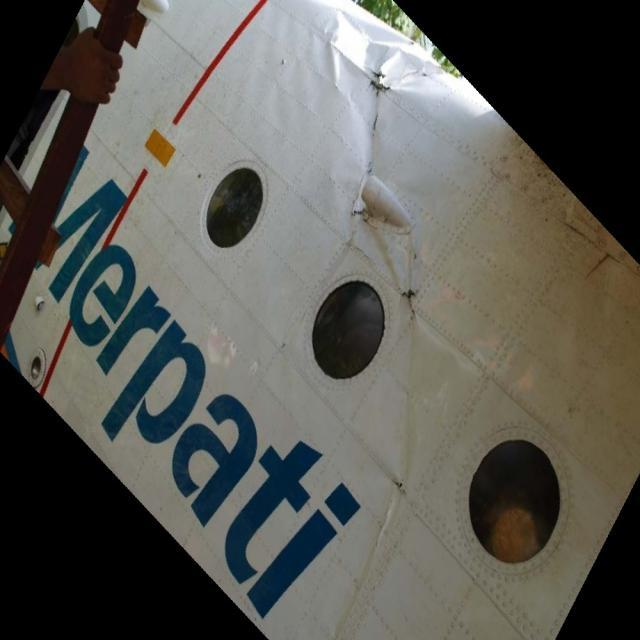crack: (365, 62, 395, 139), (397, 286, 423, 323)
